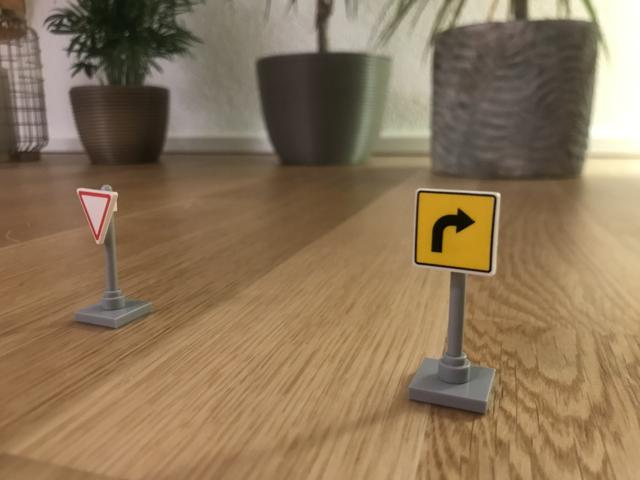fahrtrichtung rechts: (413, 186, 503, 275)
vorfahrt gewähren: (72, 186, 119, 243)
